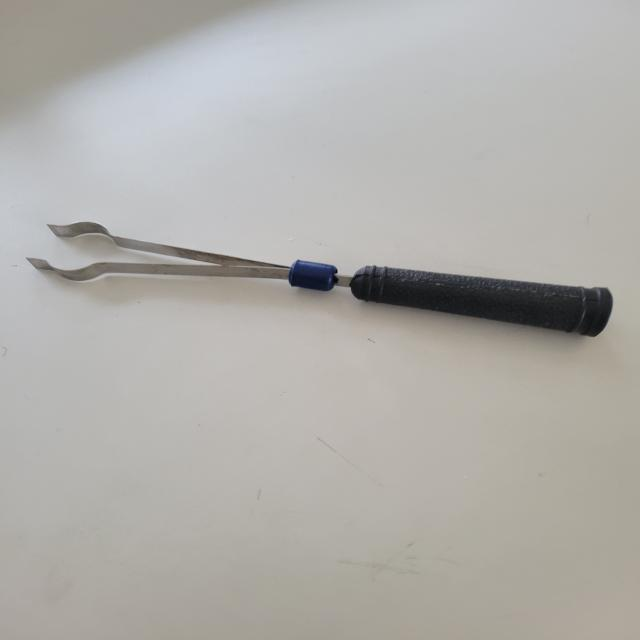TestTube_Holder: (38, 173, 640, 398)
